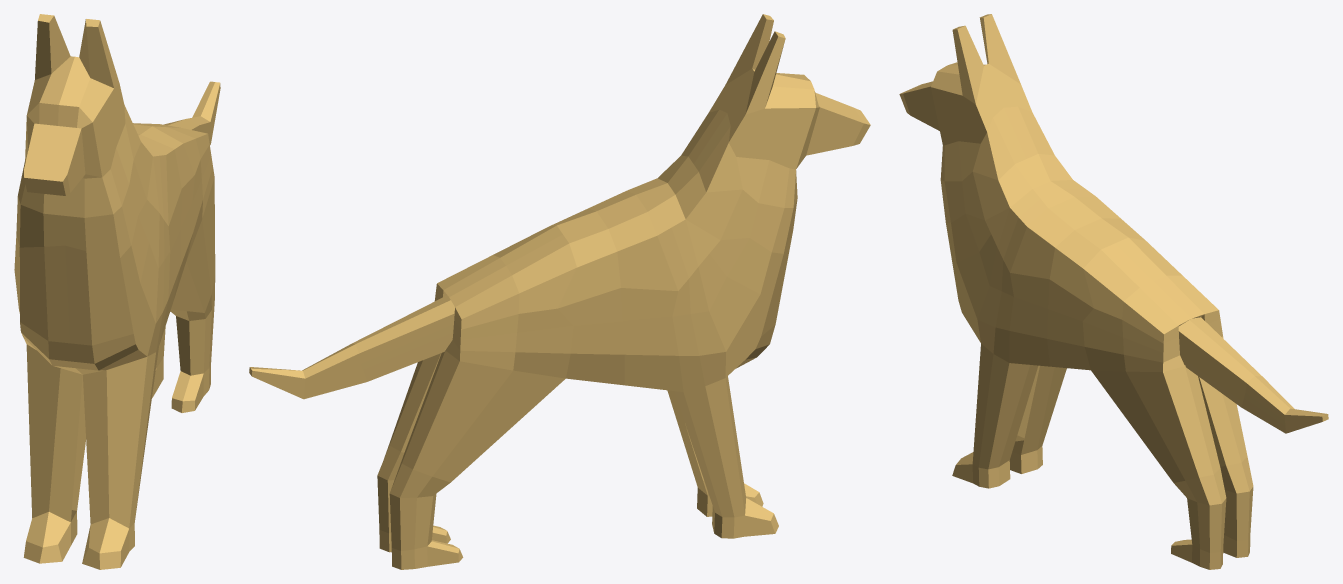
File: Dog.fbx
3 renders of one model, left to right at view 1: azimuth 30°, elevation 25°; view 2: azimuth 150°, elevation 25°; view 3: azimuth 270°, elevation 25°, orthographic. The views are drawn at different scales.
Visible parts, largest first — view 1: Cube.037; view 2: Cube.037; view 3: Cube.037.
Boxes of the visible parts, x1,y1,x2,y2 form: Cube.037: (14,14,220,569); Cube.037: (249,14,870,569); Cube.037: (899,14,1328,569).
Size of the model in its own units: 167 by 196 by 173.
